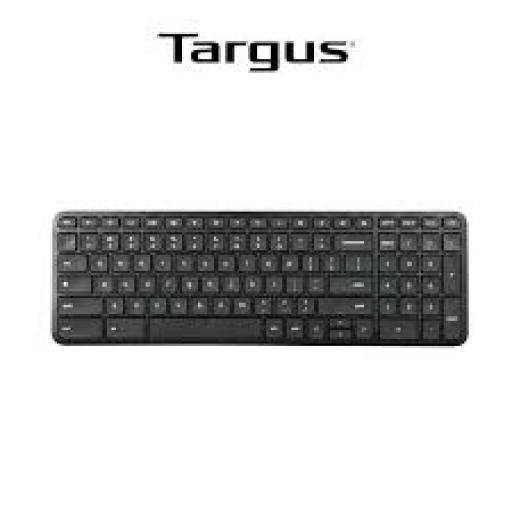KEYBOARD-2: (52, 212, 466, 344)
